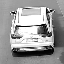motor: (12, 5, 49, 53)
